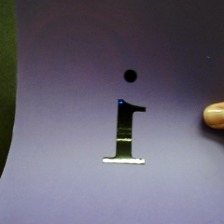violet1: (94, 66, 159, 173)
